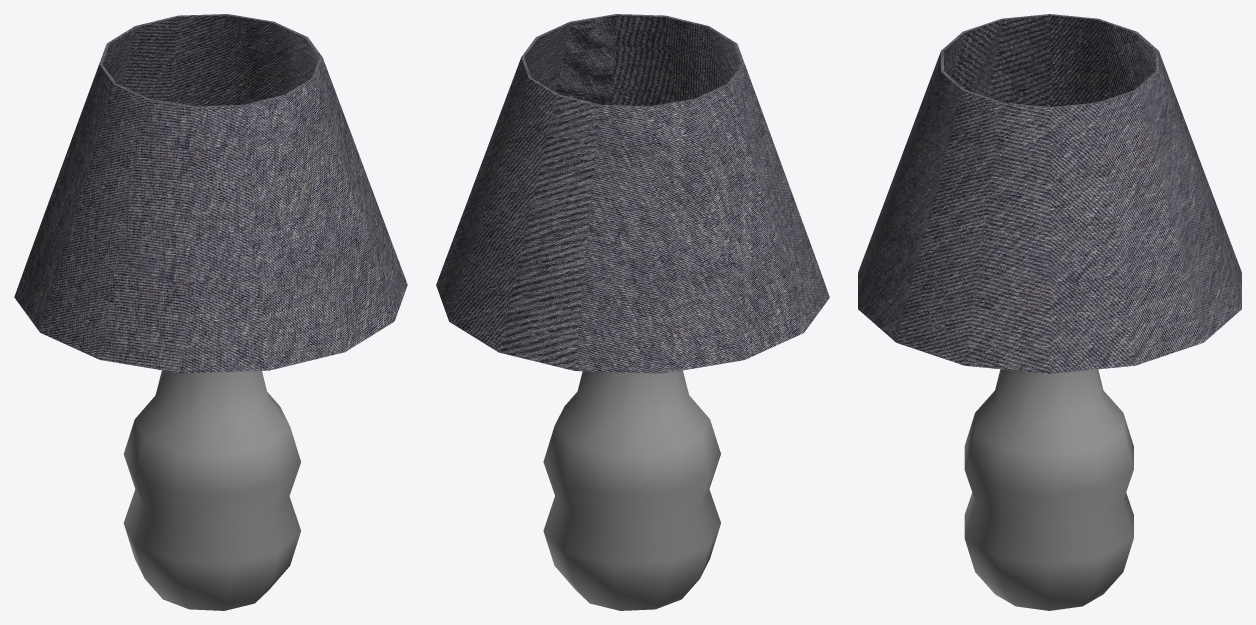
Rendered from PROPS_lamp_02.FBX.
3 renders of one model, left to right at view 1: azimuth 30°, elevation 25°; view 2: azimuth 150°, elevation 25°; view 3: azimuth 270°, elevation 25°, orthographic.
Visible parts, largest first — view 1: PROPS_lamp_02; view 2: PROPS_lamp_02; view 3: PROPS_lamp_02.
Part boxes in pixels (x1,y1,x2,y2): PROPS_lamp_02: (14, 14, 407, 610); PROPS_lamp_02: (436, 14, 829, 610); PROPS_lamp_02: (858, 14, 1241, 610).
Bounding box in the file's own units: 48.42 × 71.28 × 47.2.
Materials: 2 (1 with a texture image).
